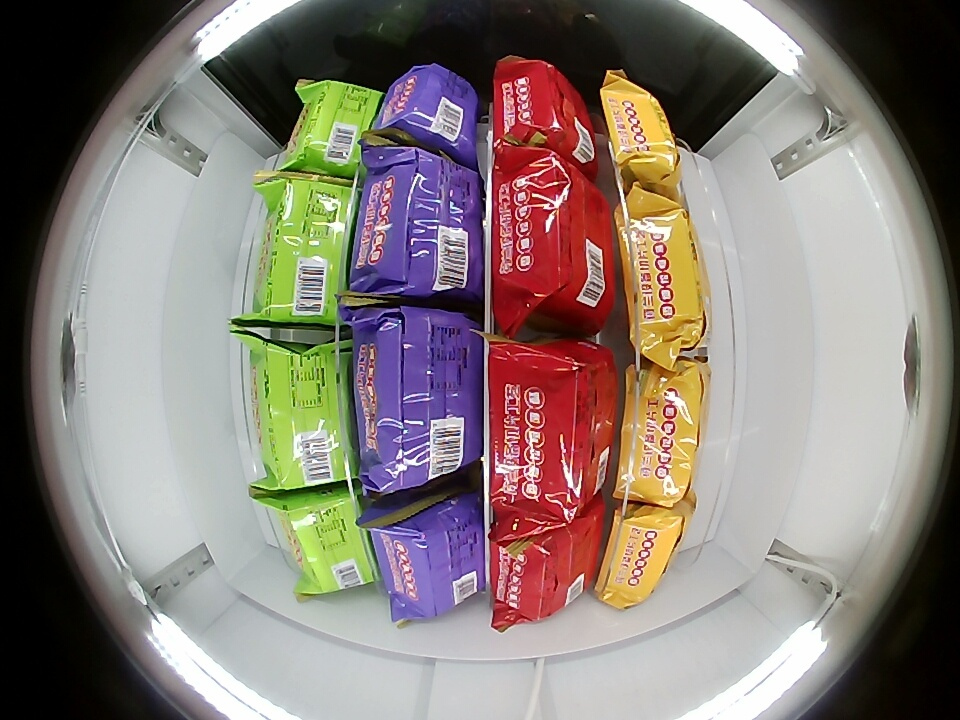kaomo_gali: (618, 207, 710, 359), (616, 363, 710, 504), (594, 497, 691, 610), (600, 83, 680, 196)
kaomo_jiaoyan: (353, 305, 484, 492), (348, 151, 484, 301), (368, 494, 483, 620), (373, 64, 481, 167)
kaomo_shaokao: (488, 339, 618, 517), (491, 153, 616, 326), (489, 503, 603, 622), (492, 59, 598, 173)
kaomo_xiangcon: (256, 173, 357, 327), (251, 341, 355, 487), (280, 486, 375, 593), (288, 81, 382, 176)
